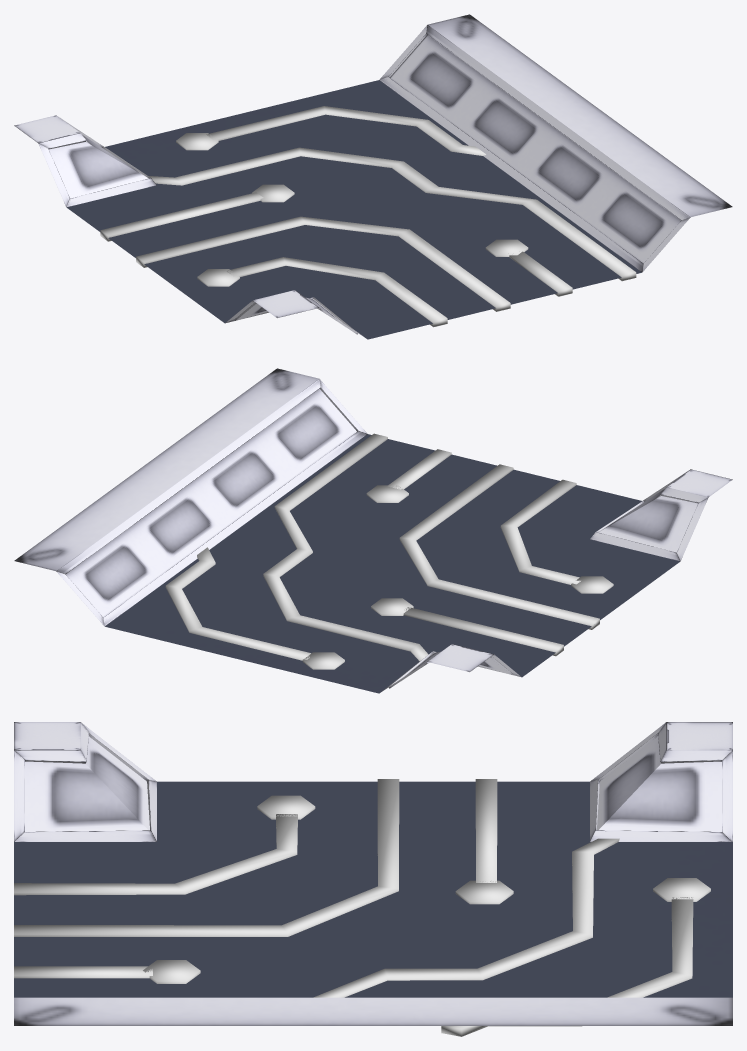
Rendered from T Sol Yol.fbx.
3 renders of one model, top to bottom at view 1: azimuth 30°, elevation 25°; view 2: azimuth 150°, elevation 25°; view 3: azimuth 270°, elevation 25°, orthographic. The views are drawn at different scales.
Visible parts, largest first — view 1: Tsolyol; view 2: Tsolyol; view 3: Tsolyol.
Boxes of the visible parts, x1,y1,x2,y2 form: Tsolyol: [14, 14, 732, 339]; Tsolyol: [14, 368, 732, 693]; Tsolyol: [14, 722, 732, 1036].
Size of the model in its own units: 200 by 19.81 by 200.
